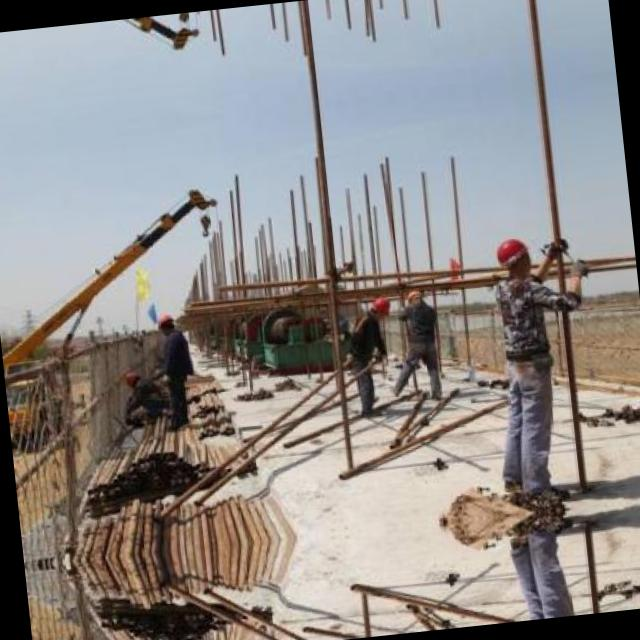helmet: (490, 232, 533, 280), (367, 292, 391, 320), (152, 309, 176, 336), (122, 368, 146, 387), (404, 286, 424, 306)
